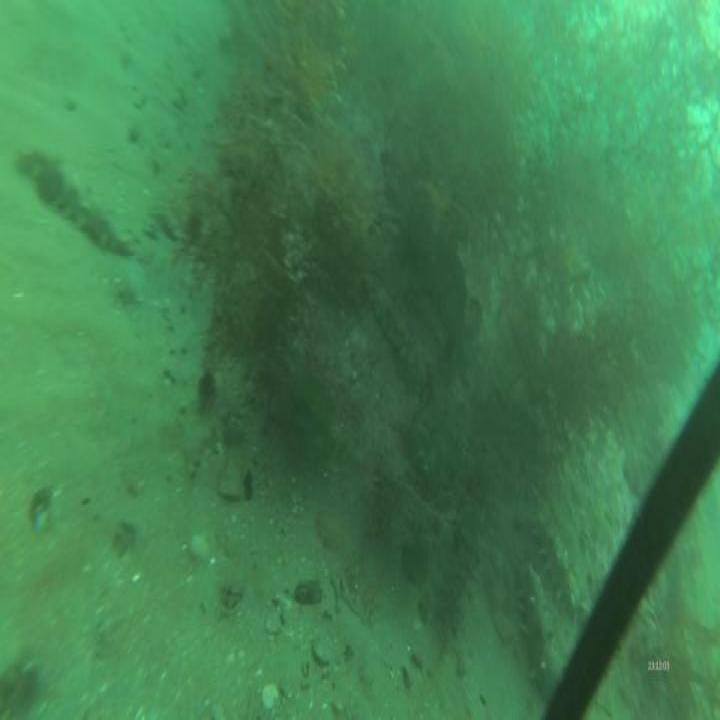holothurian: (370, 278, 435, 390), (518, 558, 568, 699)
